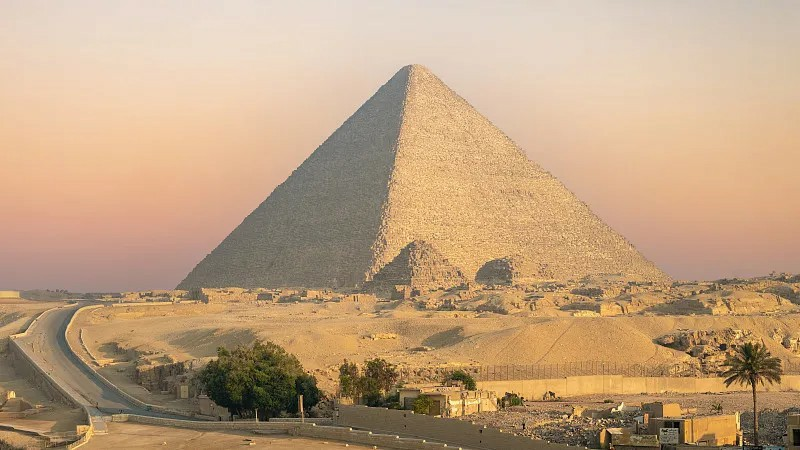Pyramid: (178, 64, 672, 289), (359, 240, 470, 293)
